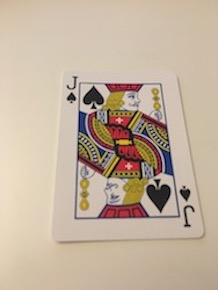JackOfSpades: (48, 62, 209, 249)
